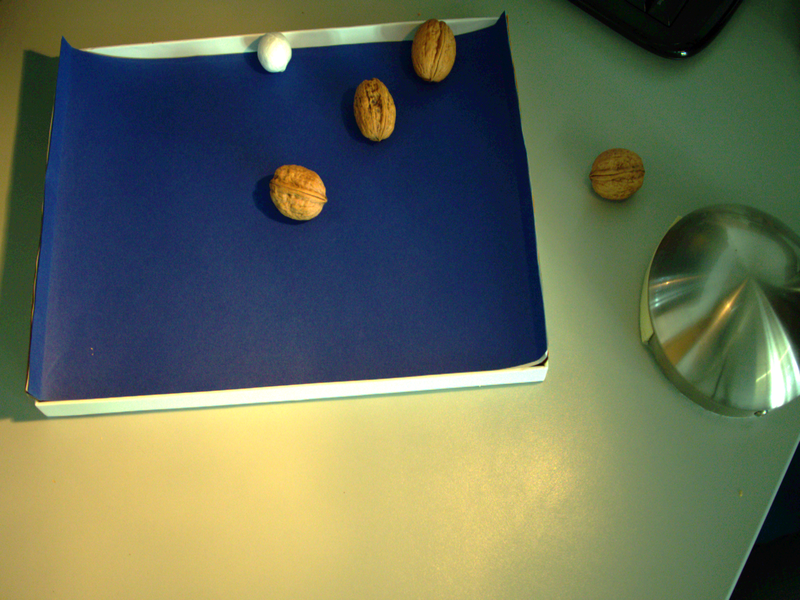walnut: (583, 142, 656, 206), (266, 161, 332, 222), (348, 75, 401, 145), (410, 16, 458, 84)
